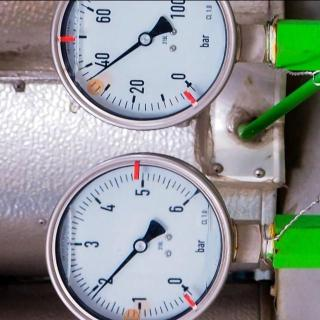gauge: (40, 149, 242, 319), (49, 0, 242, 132), (166, 272, 198, 300), (170, 70, 202, 98), (170, 191, 198, 217), (132, 238, 148, 252), (138, 32, 153, 46), (85, 74, 95, 84), (88, 292, 98, 302)
